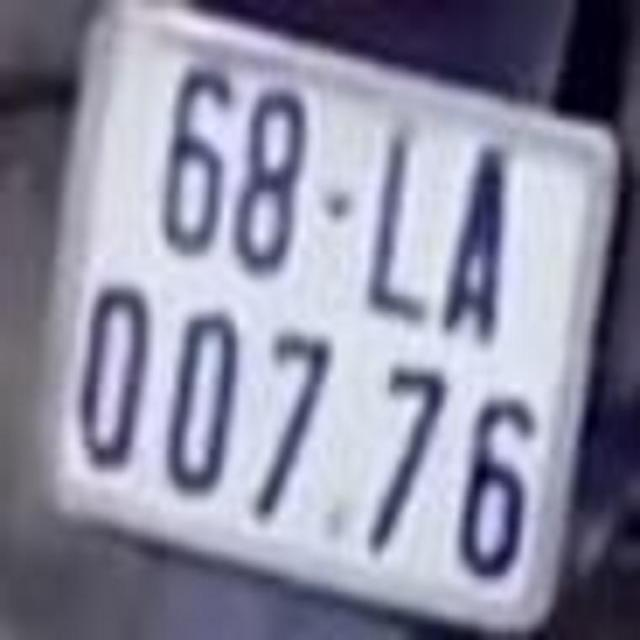0: (162, 304, 236, 498), (72, 280, 146, 473)
6: (458, 394, 541, 581), (158, 58, 229, 257)
7: (250, 324, 334, 526), (366, 362, 449, 561)
8: (233, 80, 307, 276)
A: (440, 132, 510, 350)
L: (362, 119, 435, 324)
